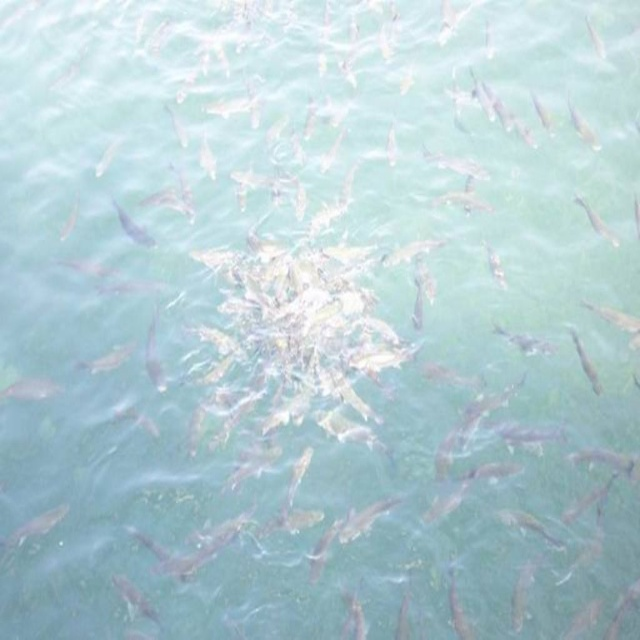Fish: (0, 4, 639, 640)
